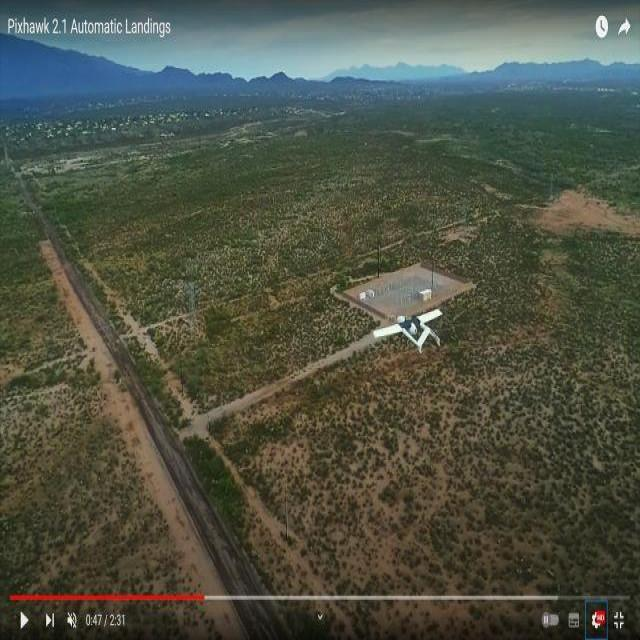UAV: (359, 296, 479, 372)
